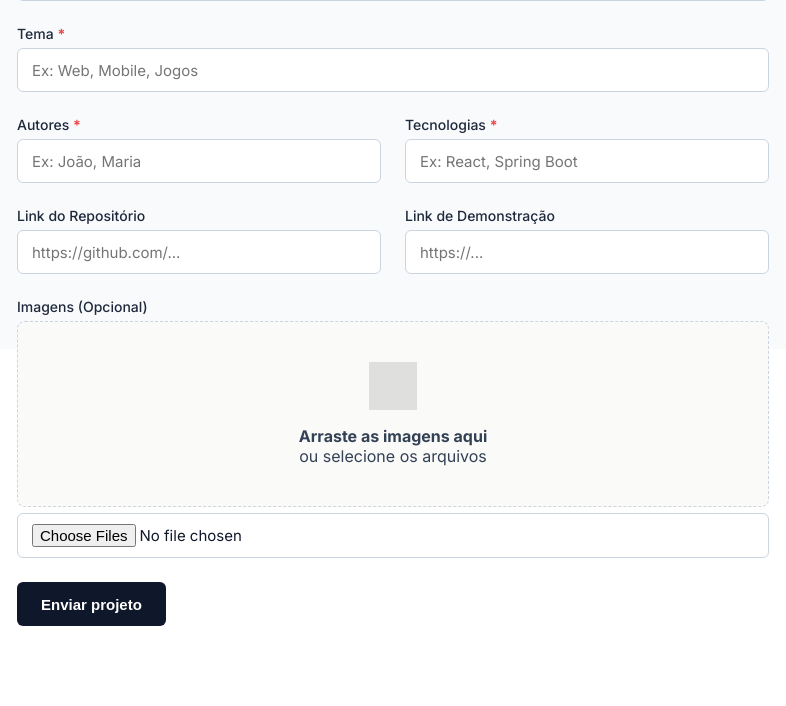
Submissão de projeto › mostra os campos obrigatórios e não envia o formulário vazio
The image size is (786, 706).
(page scrolled)
Click the button "Enviar projeto" at (91, 604), box [17,582,166,626]
(page scrolled)
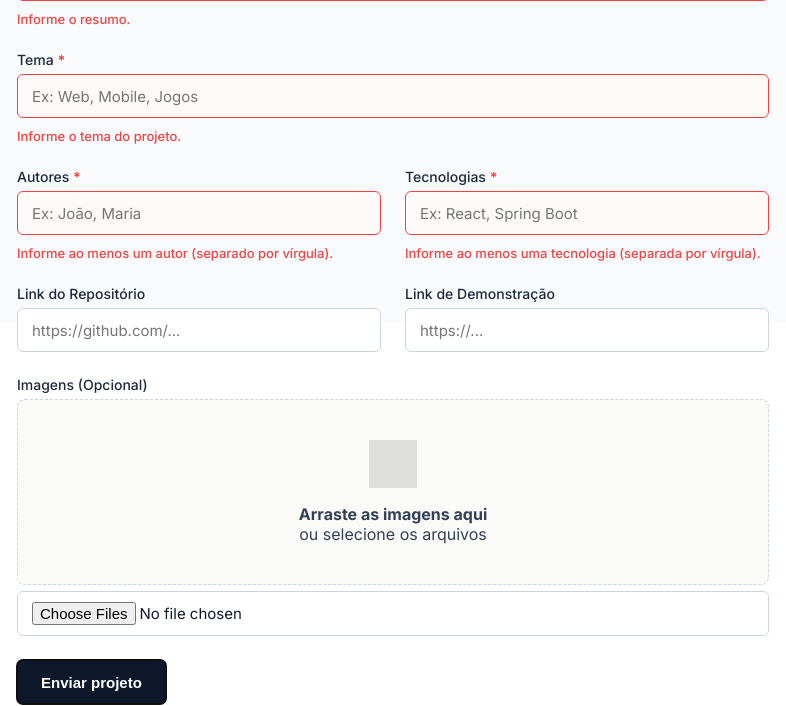
expect the text "Informe o resumo." is shown: met, box [17,11,130,27]
expect the text "Informe o tema do projeto." is shown: met, box [17,128,181,144]
expect the text "Informe ao menos um autor (separado por vírgula)." is shown: met, box [17,245,381,261]
